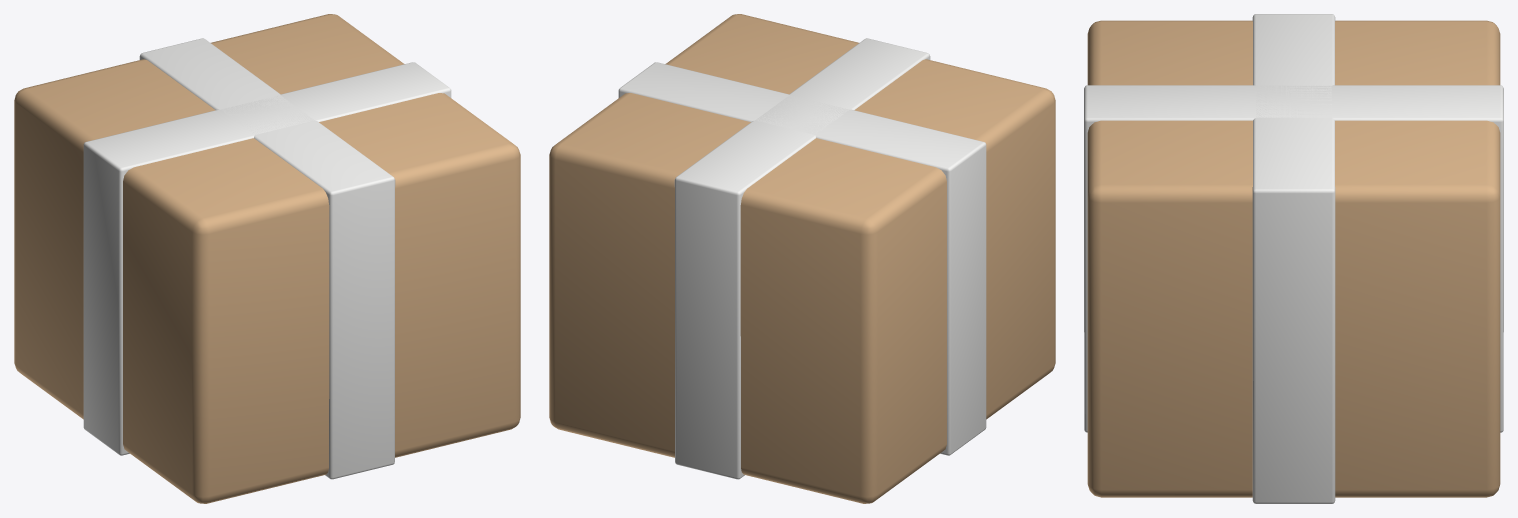
File: products.glb
3 views of the same model, side by side, from view 1: azimuth 30°, elevation 25°; view 2: azimuth 150°, elevation 25°; view 3: azimuth 270°, elevation 25° (orthographic). The views are drawn at different scales.
Parts seen in each view (by area): view 1: products; view 2: products; view 3: products.
Part boxes in pixels (bbox=[...]): products: bbox=[14, 14, 520, 503]; products: bbox=[549, 14, 1055, 503]; products: bbox=[1084, 14, 1503, 503].
Size of the model in its own units: 0.6104 by 0.5049 by 0.6104.
